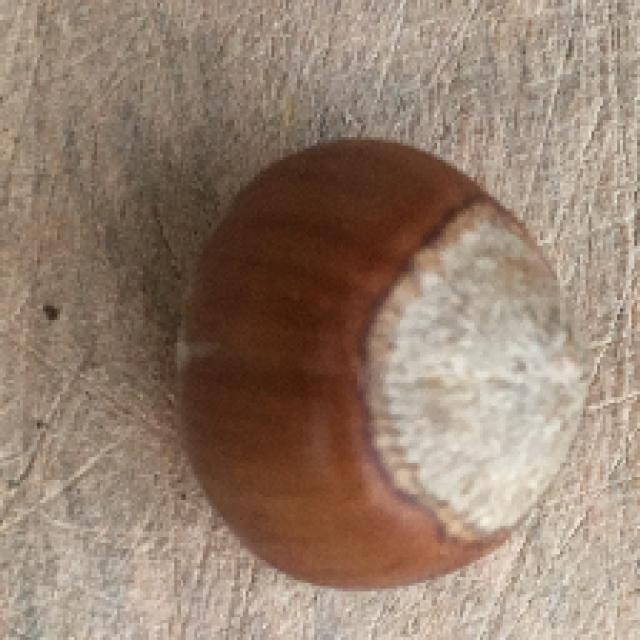qualityHazelnut: (162, 132, 588, 589)
